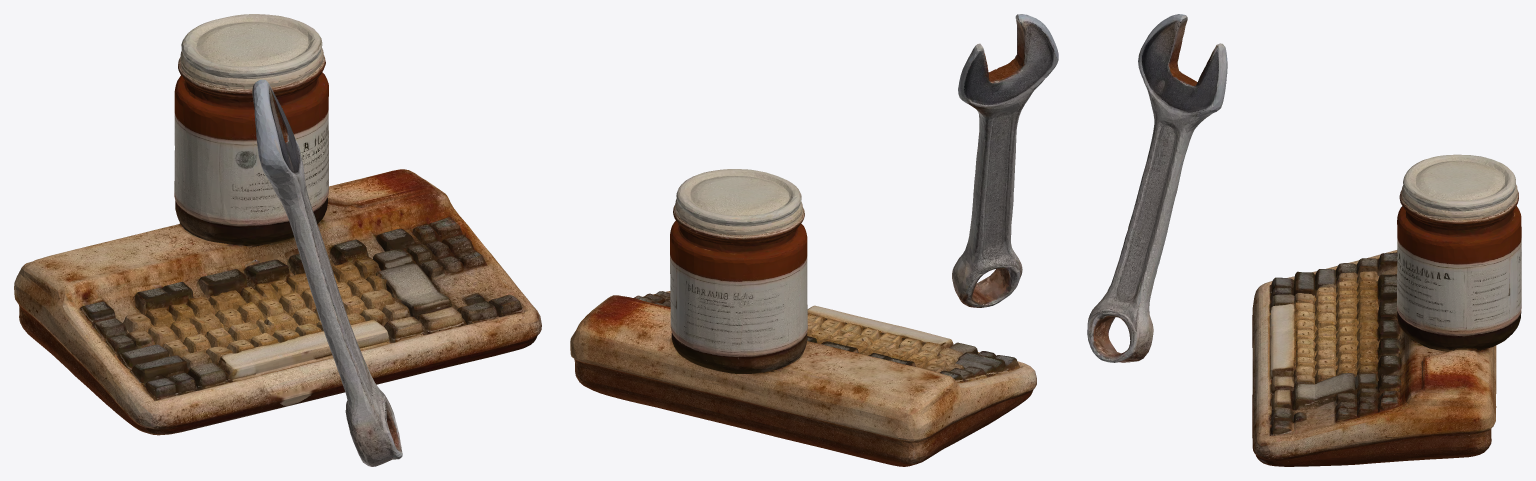
Rendered from tail (212).glb.
3 views of the same model, side by side, from view 1: azimuth 30°, elevation 25°; view 2: azimuth 150°, elevation 25°; view 3: azimuth 270°, elevation 25° (orthographic). The views are drawn at different scales.
Visible parts, largest first — view 1: Hy21_Mesh.obj; view 2: Hy21_Mesh.obj; view 3: Hy21_Mesh.obj.
Boxes of the visible parts, left/top/right/bottom form: Hy21_Mesh.obj: left=14, top=14, right=541, bottom=466; Hy21_Mesh.obj: left=570, top=14, right=1058, bottom=466; Hy21_Mesh.obj: left=1087, top=14, right=1521, bottom=466.
Size of the model in its own units: 1.79 by 1.58 by 1.96.
Materials: 1 (1 with a texture image).
